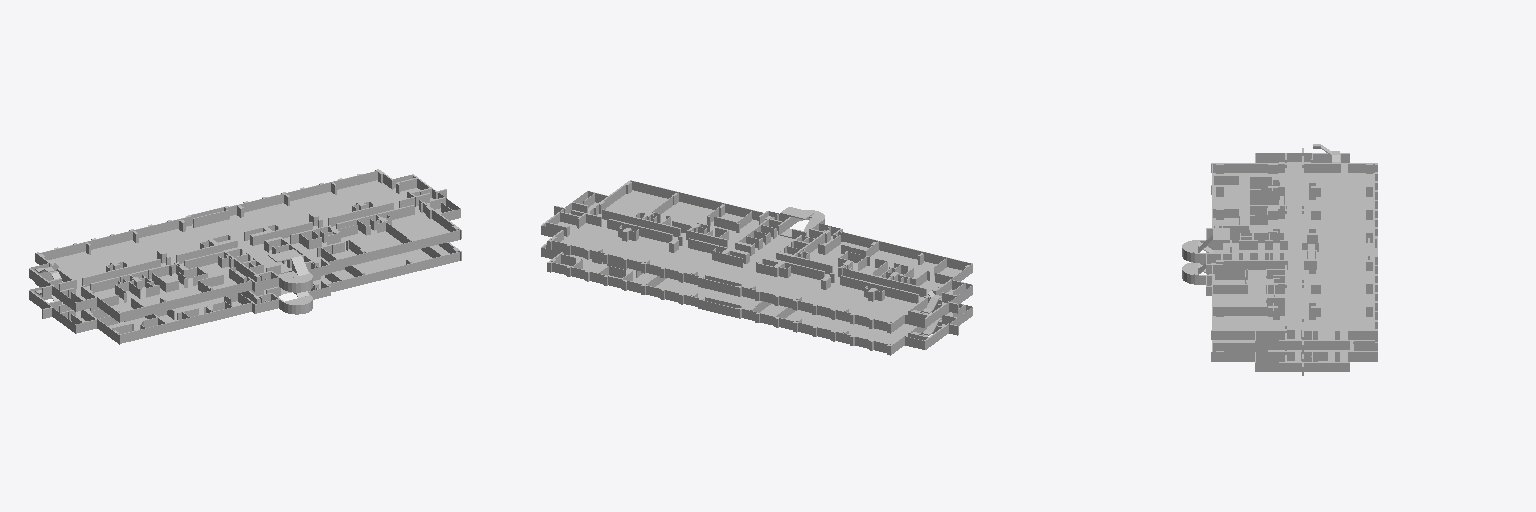
Rendered from decimo_versao_01.obj.
The picture shows the model from 3 angles: view 1: azimuth 30°, elevation 25°; view 2: azimuth 150°, elevation 25°; view 3: azimuth 270°, elevation 25°; orthographic projection.
Bounding box in the file's own units: 64.28 × 6.66 × 27.01.